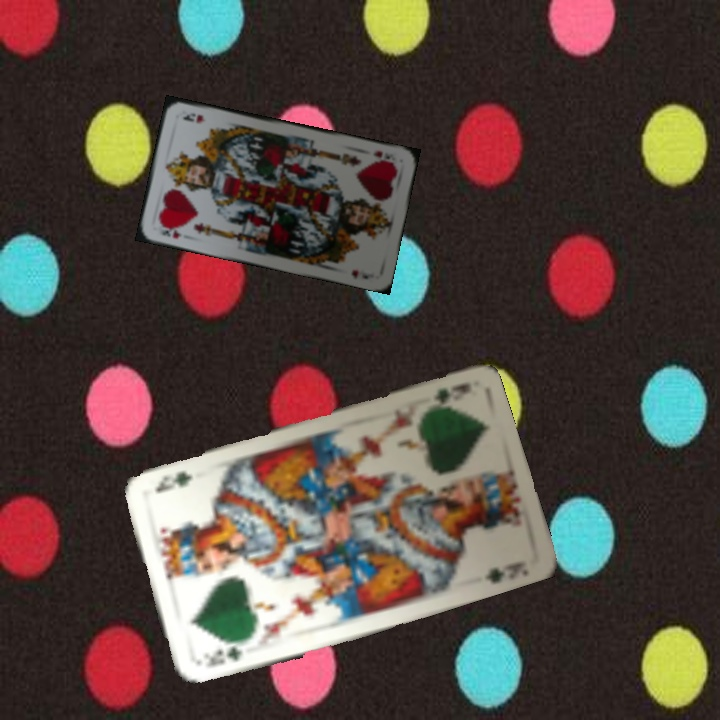GK: (201, 643, 244, 670), (421, 384, 454, 413)
HK: (369, 146, 397, 167), (155, 221, 184, 241)
